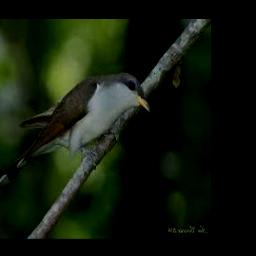Cuckoo: (0, 72, 151, 195)
